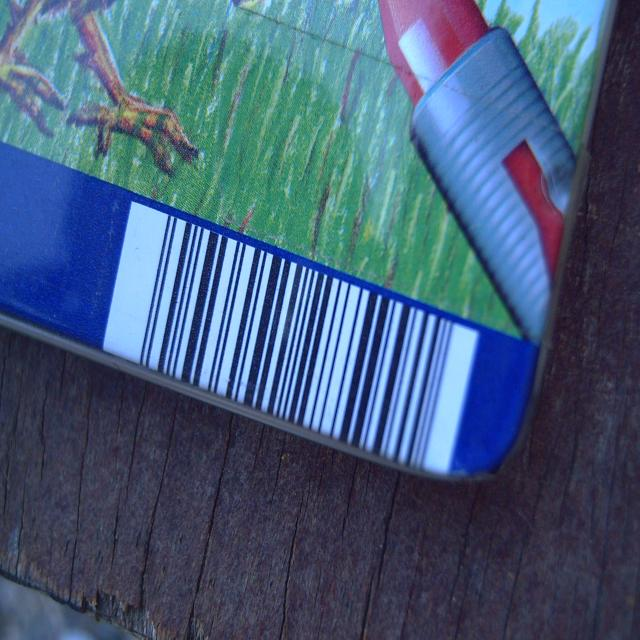barcode: (142, 215, 450, 460)
